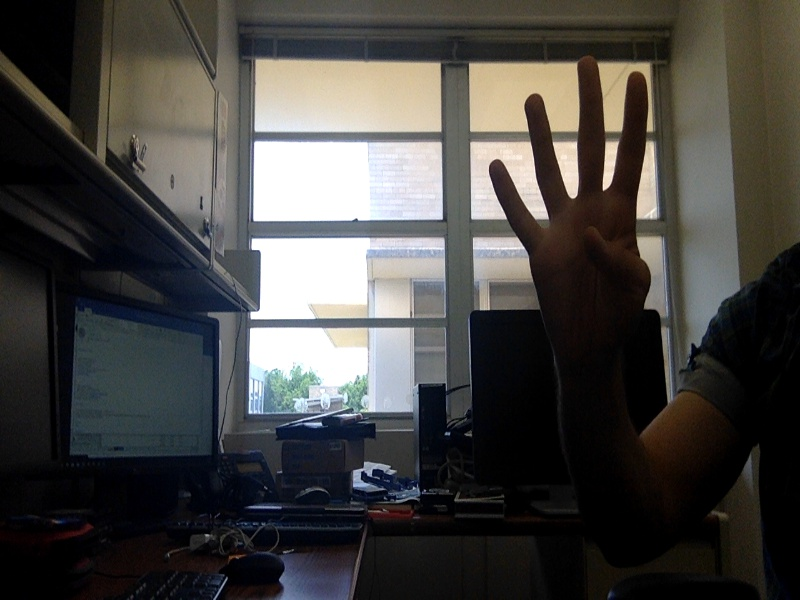4-hand: (490, 57, 657, 349)
